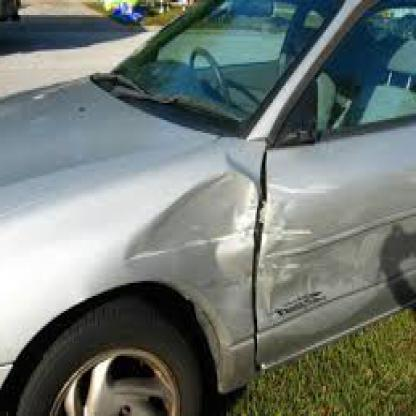dent: (124, 168, 311, 272)
